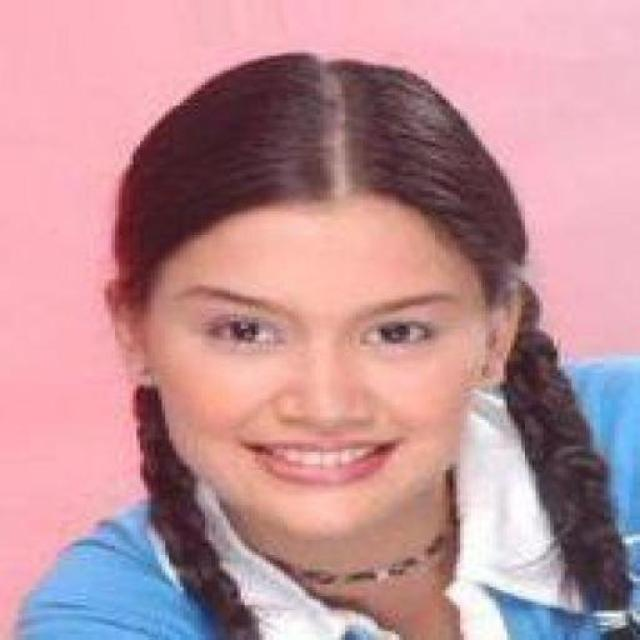bareface: (94, 128, 488, 502)
